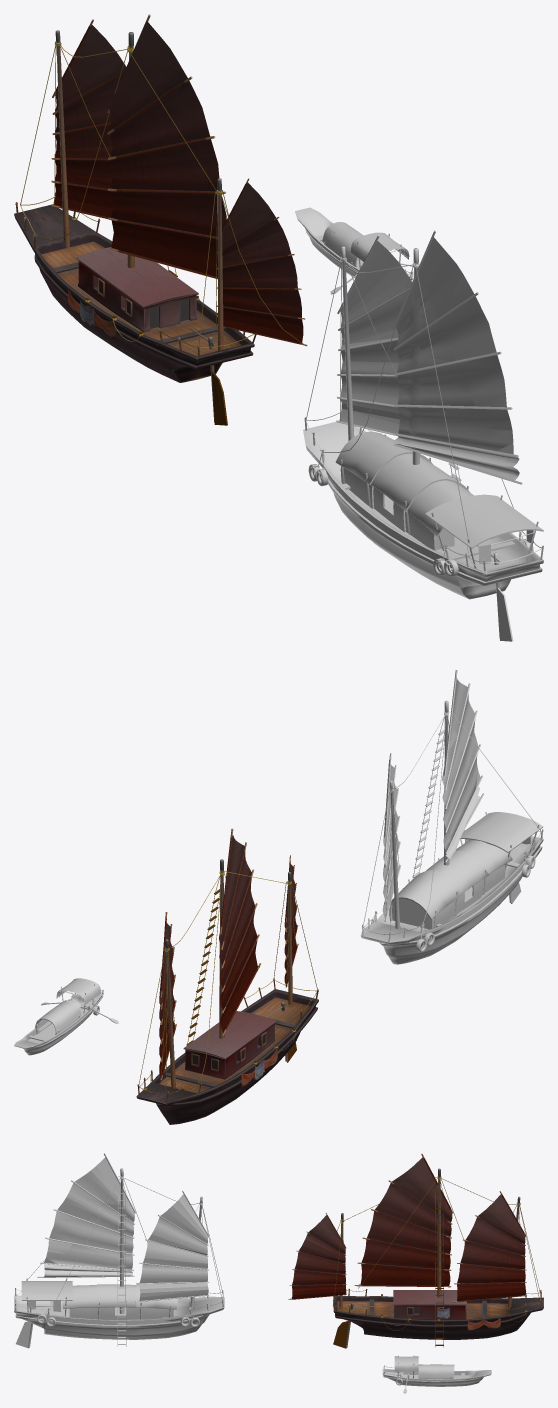
The model's file is SM_BoatJunk_01.dae.
3 renders of one model, top to bottom at view 1: azimuth 30°, elevation 25°; view 2: azimuth 150°, elevation 25°; view 3: azimuth 270°, elevation 25°, orthographic. The views are drawn at different scales.
Parts seen in each view (by area): view 1: SM_BoatJunk_01, SM_BoatJunk_03, SM_BoatJunk_Small; view 2: SM_BoatJunk_01, SM_BoatJunk_03, SM_BoatJunk_Small; view 3: SM_BoatJunk_01, SM_BoatJunk_03, SM_BoatJunk_Small.
Boxes of the visible parts, left/top/right/bottom form: SM_BoatJunk_01: left=14, top=14, right=307, bottom=425; SM_BoatJunk_03: left=303, top=230, right=543, bottom=641; SM_BoatJunk_Small: left=295, top=207, right=412, bottom=294; SM_BoatJunk_01: left=136, top=828, right=318, bottom=1124; SM_BoatJunk_03: left=360, top=670, right=543, bottom=964; SM_BoatJunk_Small: left=14, top=978, right=118, bottom=1055; SM_BoatJunk_01: left=288, top=1153, right=543, bottom=1348; SM_BoatJunk_03: left=14, top=1153, right=224, bottom=1348; SM_BoatJunk_Small: left=382, top=1355, right=491, bottom=1393.
Bounding box in the file's own units: 3409 × 3672 × 8951.
